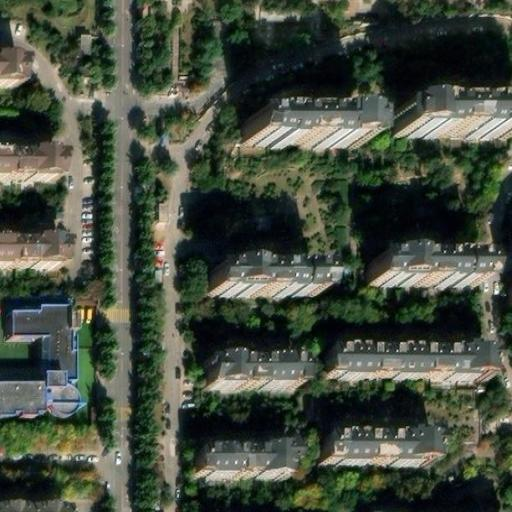building: (0, 303, 80, 417), (326, 355, 488, 384), (244, 115, 368, 146), (393, 106, 512, 137), (205, 270, 317, 300), (323, 441, 431, 470), (368, 260, 476, 287), (206, 363, 302, 393), (196, 453, 290, 479), (0, 145, 63, 181), (0, 234, 63, 269), (0, 497, 65, 512), (0, 49, 26, 84)
